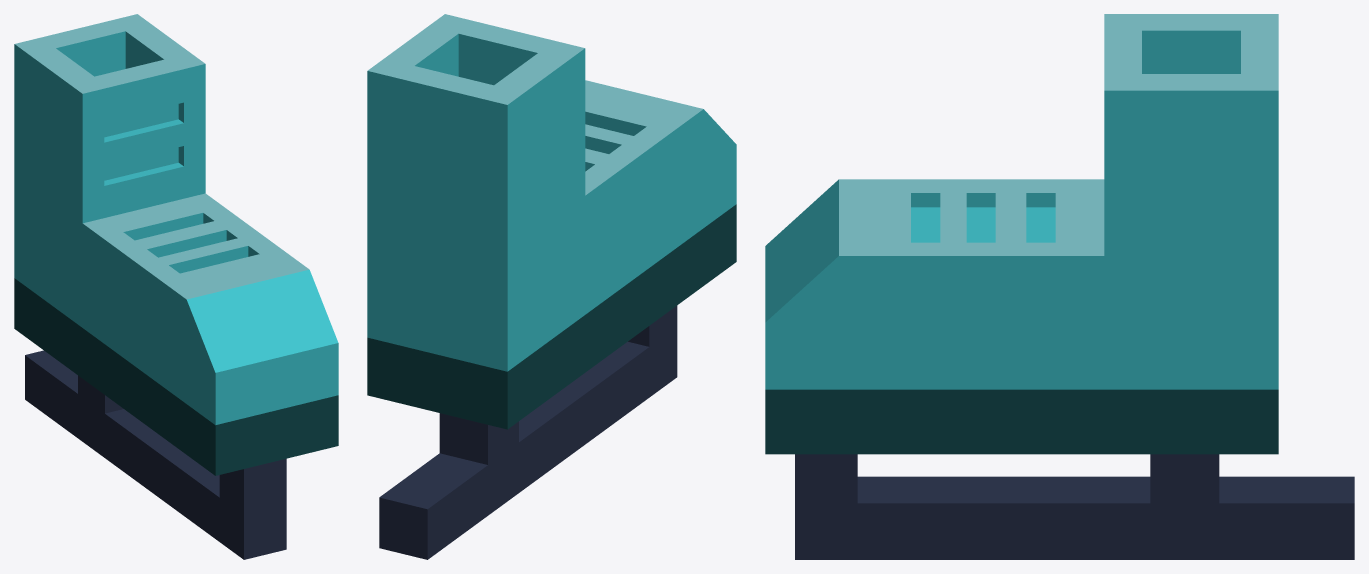
The model's file is 025 Shoes.fbx.
The picture shows the model from 3 angles, left to right: view 1: azimuth 30°, elevation 25°; view 2: azimuth 150°, elevation 25°; view 3: azimuth 270°, elevation 25°; orthographic projection. The views are drawn at different scales.
Visible parts, largest first — view 1: Lowpoly_Christmas_Pack_025:pCube9; view 2: Lowpoly_Christmas_Pack_025:pCube9; view 3: Lowpoly_Christmas_Pack_025:pCube9.
Part boxes in pixels (box(x1,y1,x2,y2)): Lowpoly_Christmas_Pack_025:pCube9: box(14, 14, 338, 559); Lowpoly_Christmas_Pack_025:pCube9: box(367, 14, 736, 559); Lowpoly_Christmas_Pack_025:pCube9: box(765, 14, 1354, 559).
Bounding box in the file's own units: 0.5 × 1.5 × 1.63.
